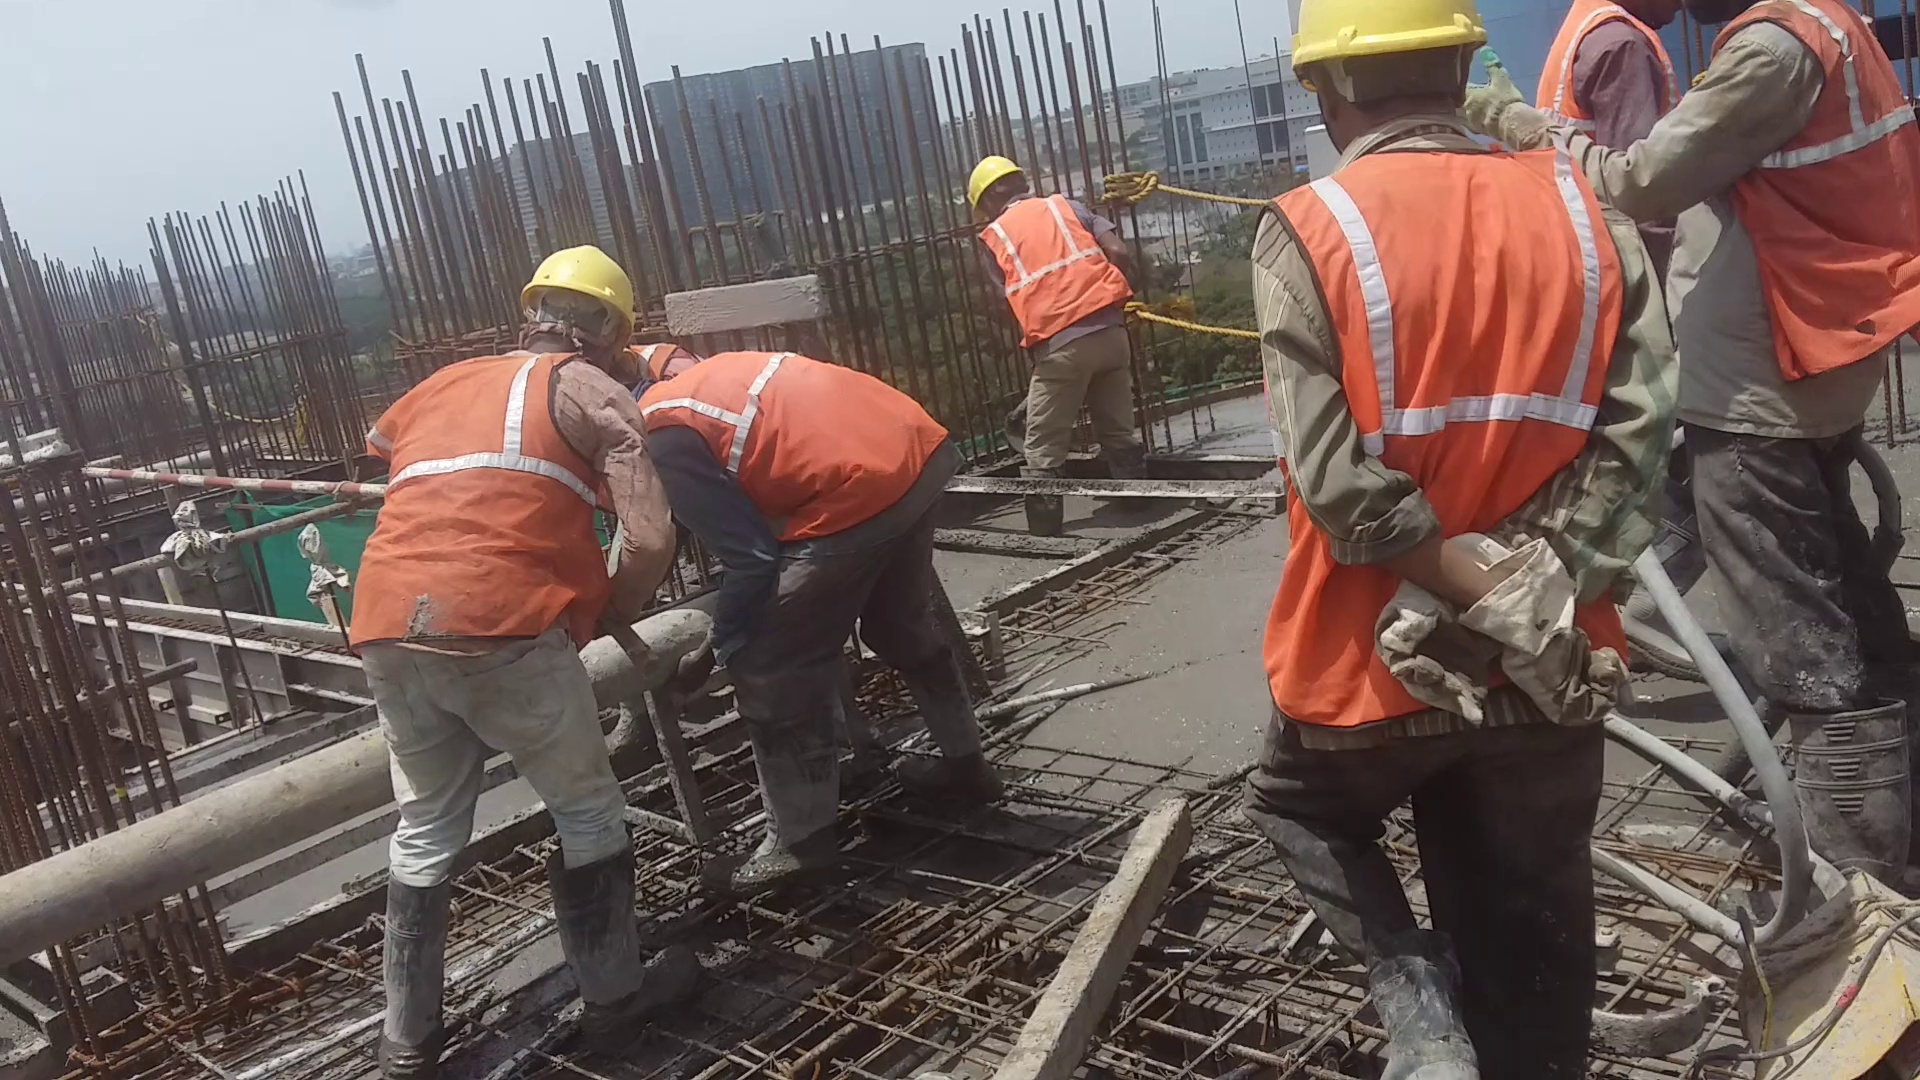SAFE: (1284, 7, 1596, 712), (349, 237, 642, 658), (960, 154, 1127, 344)
